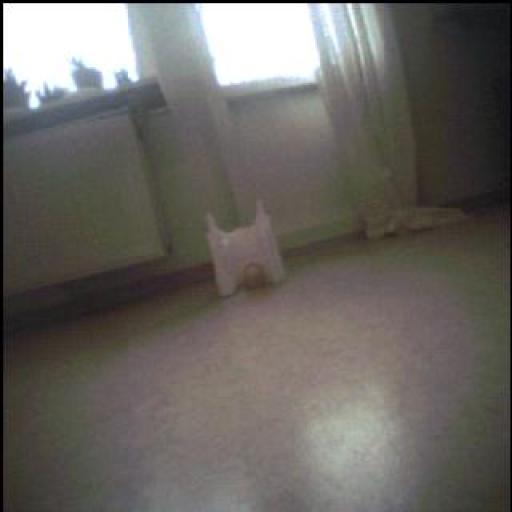Basket: (239, 256, 268, 296)
